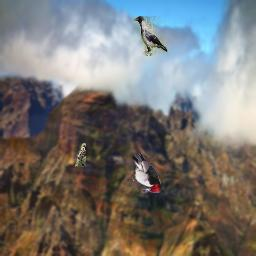Crow: (133, 16, 168, 56)
Sparrow: (75, 143, 86, 167)
Woodpecker: (131, 153, 161, 193)
